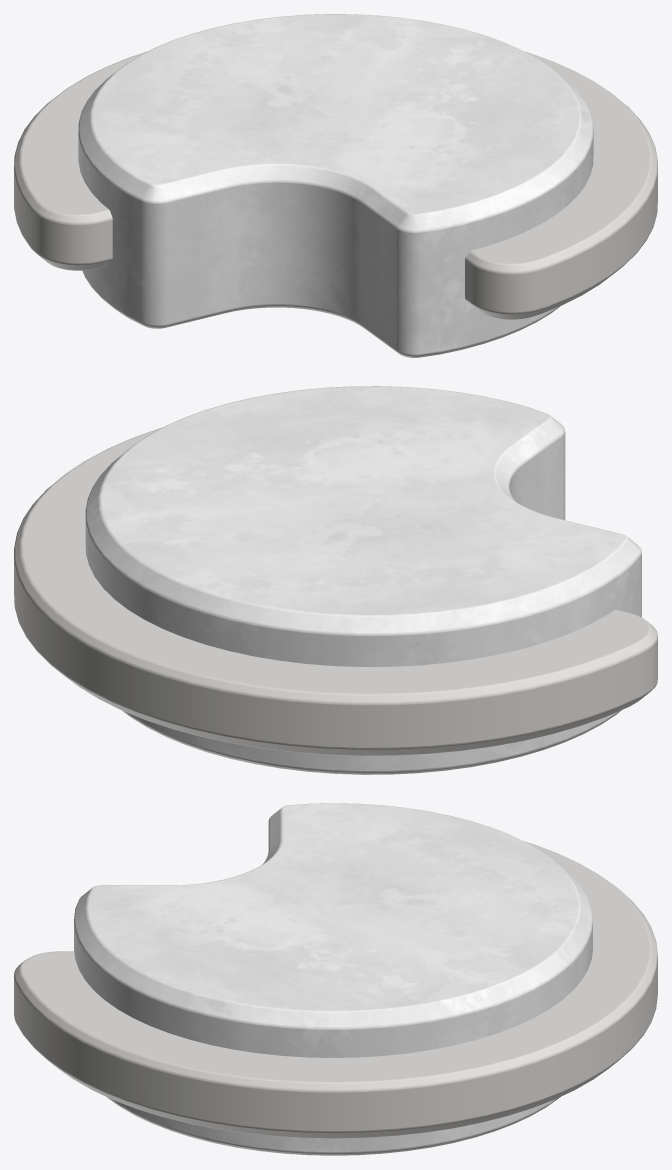
3 renders of one model, top to bottom at view 1: azimuth 30°, elevation 25°; view 2: azimuth 150°, elevation 25°; view 3: azimuth 270°, elevation 25°, orthographic. The views are drawn at different scales.
Visible parts, largest first — view 1: block_02 (×2); view 2: block_02 (×2); view 3: block_02 (×2).
Part boxes in pixels (<box>): block_02 (×2): <box>14,14,657,357</box>; block_02 (×2): <box>14,386,657,774</box>; block_02 (×2): <box>14,803,657,1155</box>.
Size of the model in its own units: 3.97 by 0.96 by 3.97.
Materials: 2 (2 with a texture image).
